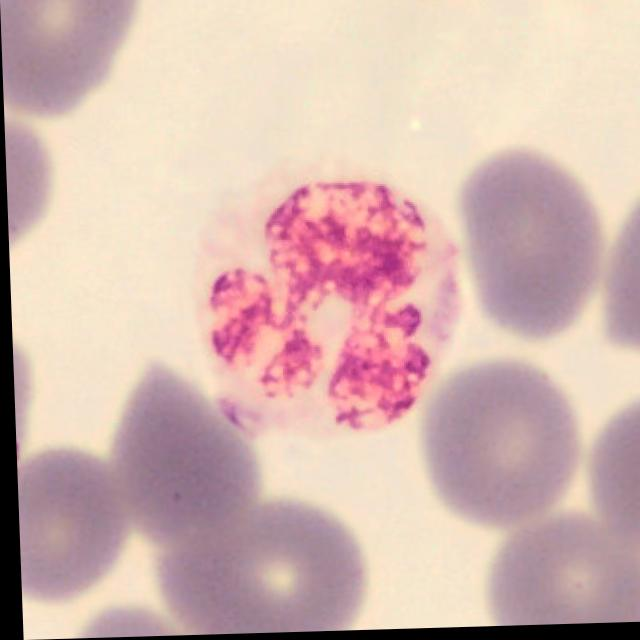Restos celulares: (188, 163, 464, 440)
